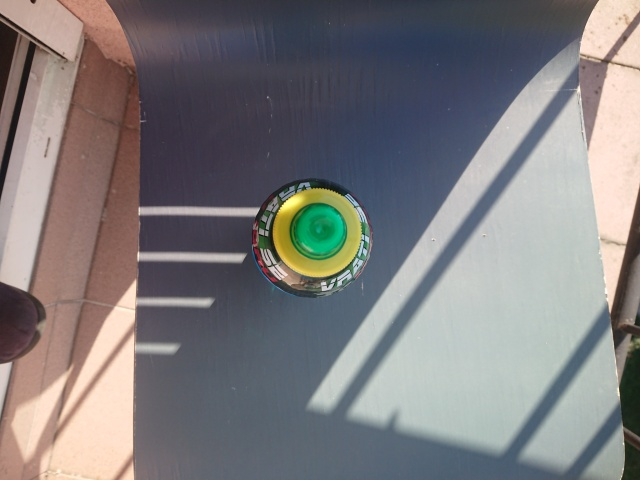Vindi Iso Sport Forest Strawberries 500mL: (248, 175, 376, 301)
